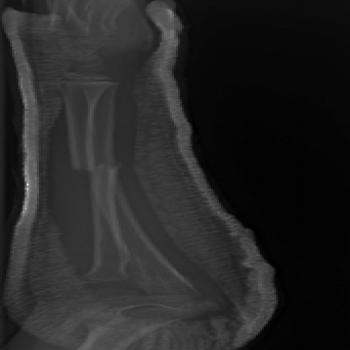Fracture: (63, 156, 133, 178)
